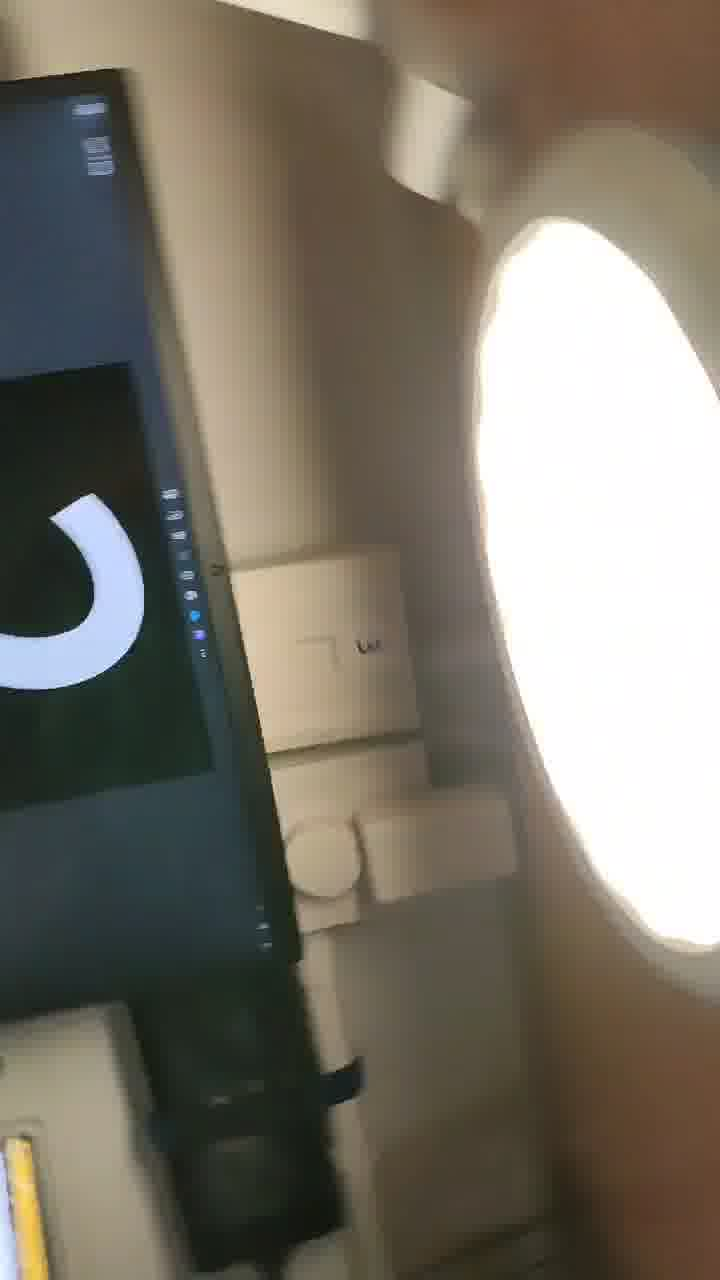two: (1, 379, 200, 823)
